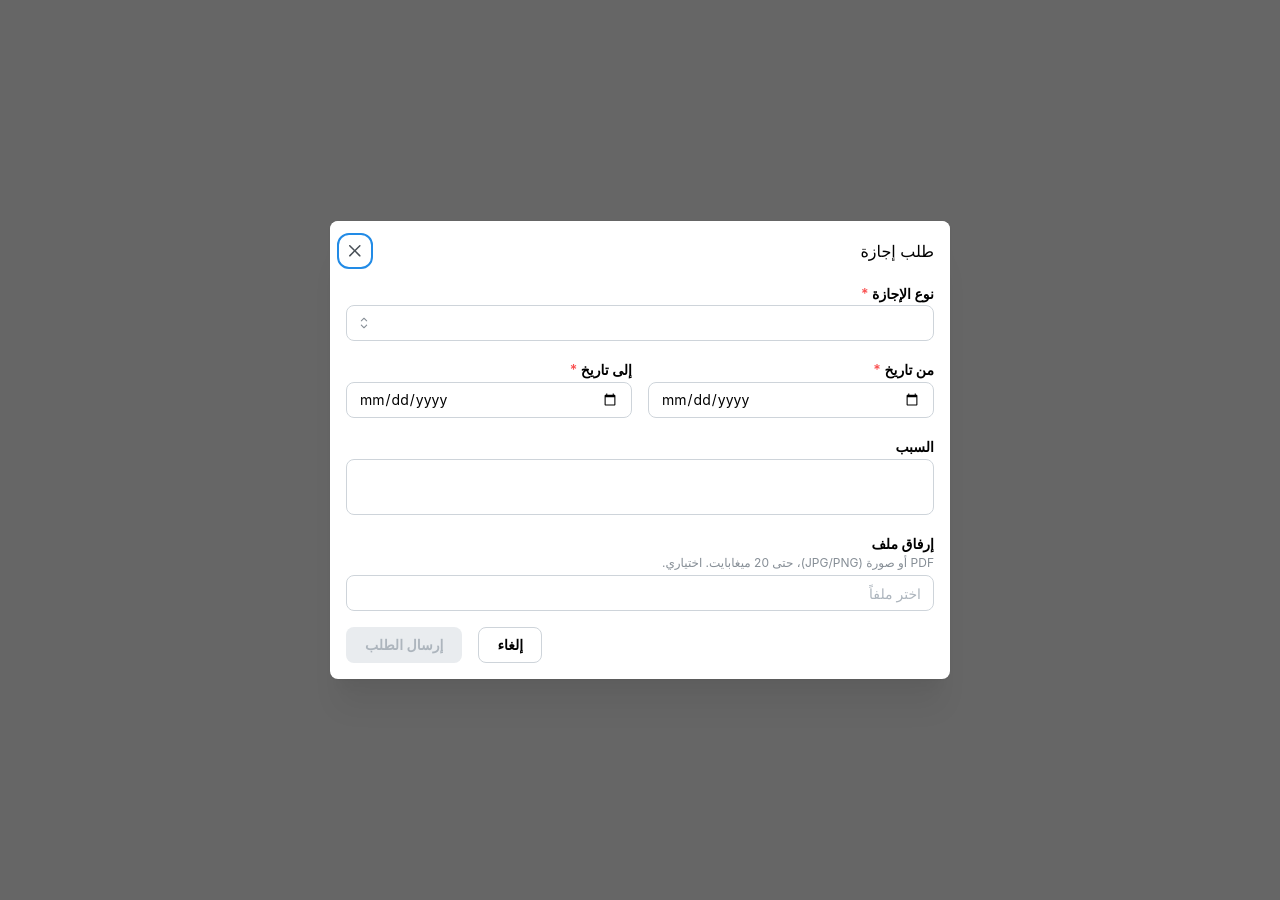
Test: نموذج طلب الإجازة › يمنع الإرسال عند عدم كفاية الرصيد أو التداخل
Click the dropdown labelled "نوع الإجازة *": x=640, y=323 left=346, top=305, right=934, bottom=341
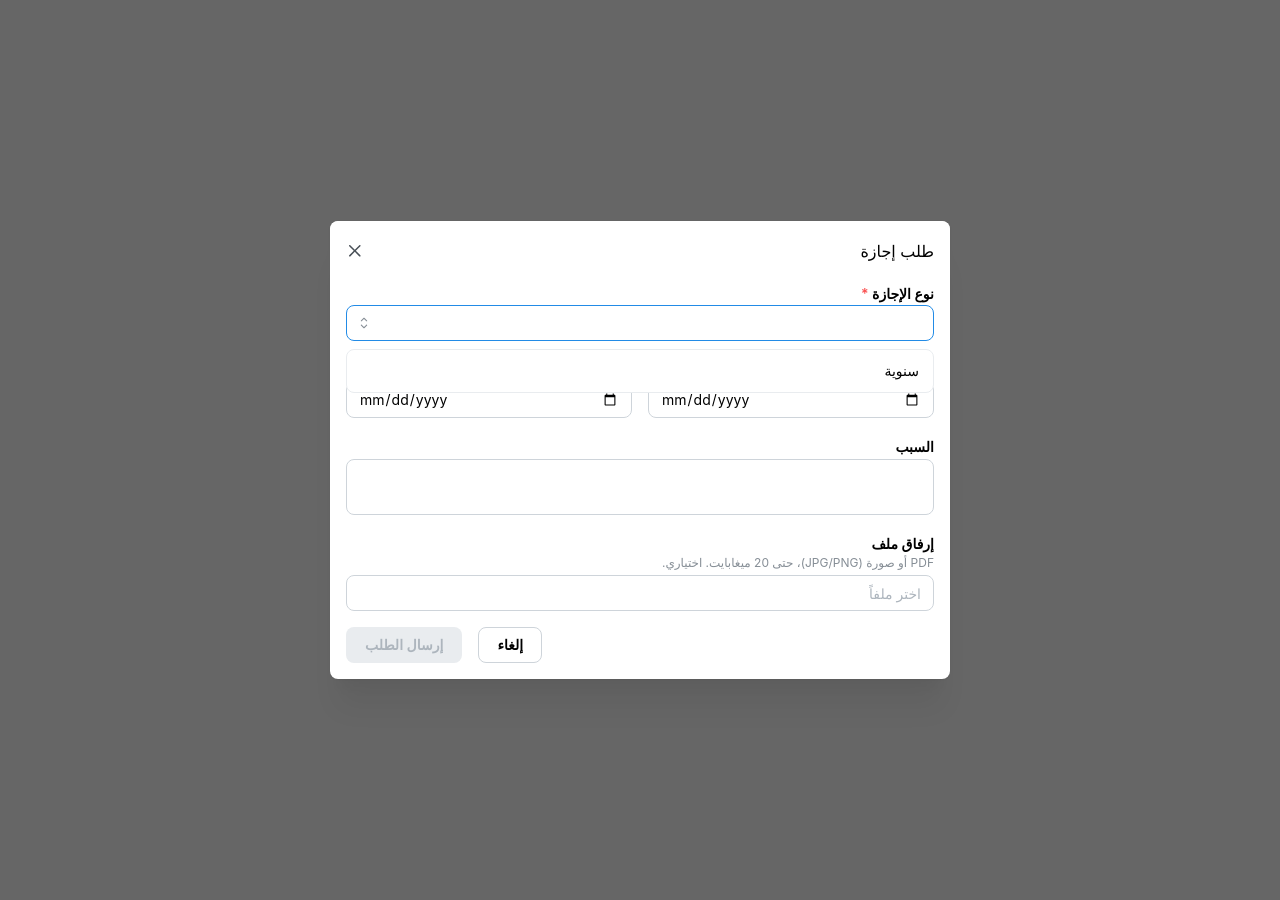
Click the option "سنوية": x=902, y=371 left=884, top=362, right=919, bottom=379
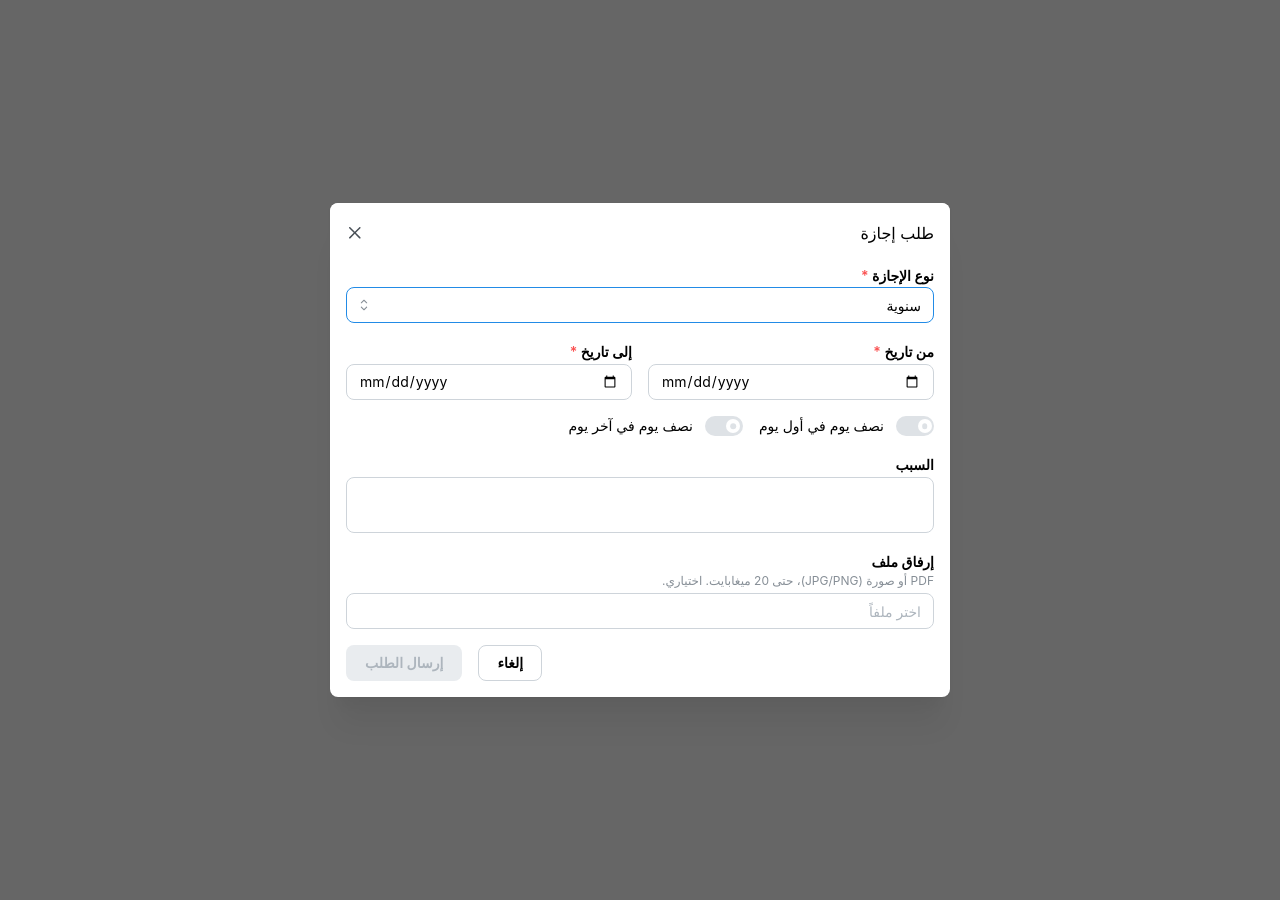
In the date field labelled "من تاريخ *": x=791, y=382 left=648, top=364, right=934, bottom=400, type "2026-06-15"
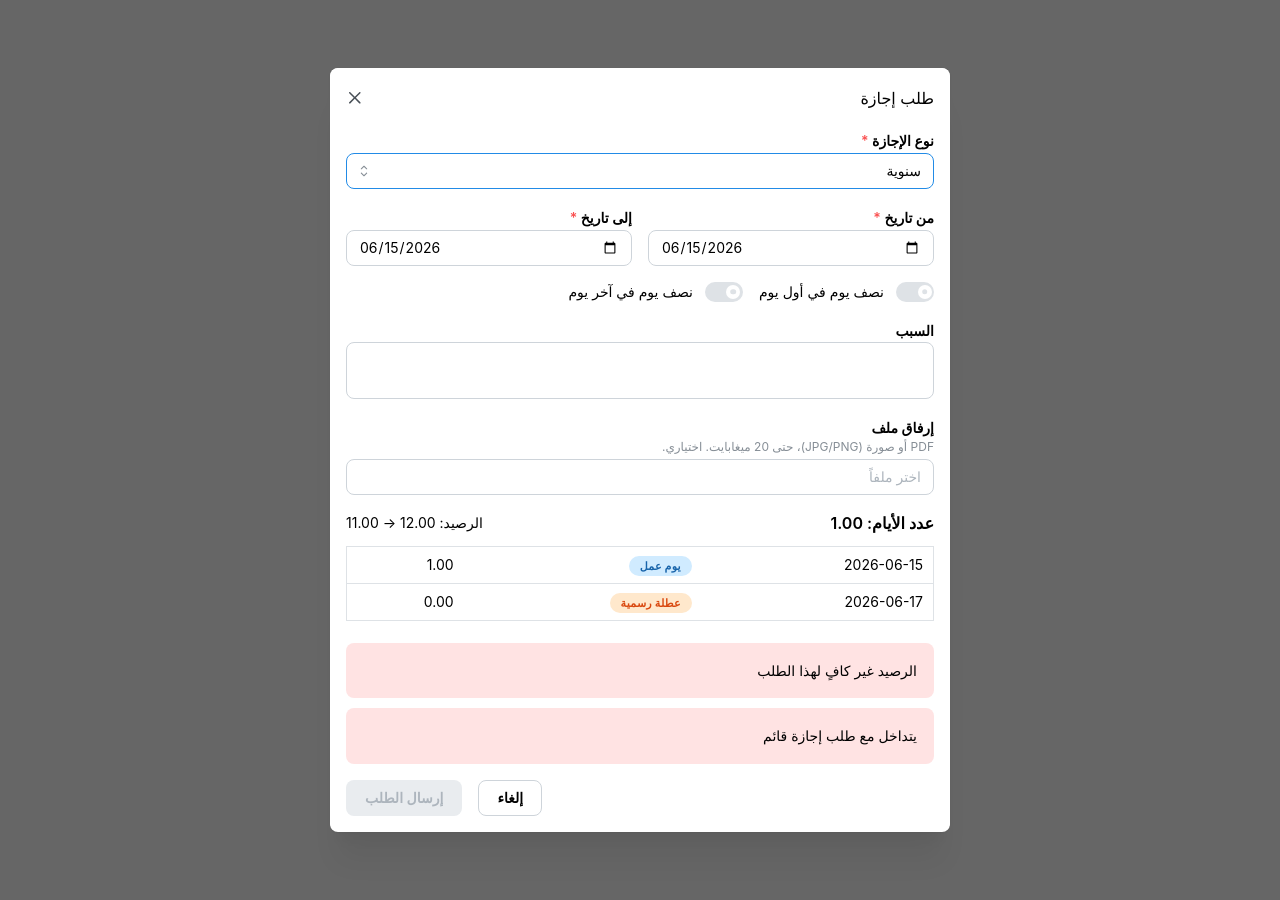
Expected: the button "إرسال الطلب" is disabled, left=346, top=780, right=462, bottom=816
Expected: the text "الرصيد غير كافٍ لهذا الطلب" is shown, left=757, top=662, right=917, bottom=679
Expected: the text "يتداخل مع طلب إجازة قائم" is shown, left=763, top=727, right=917, bottom=744
